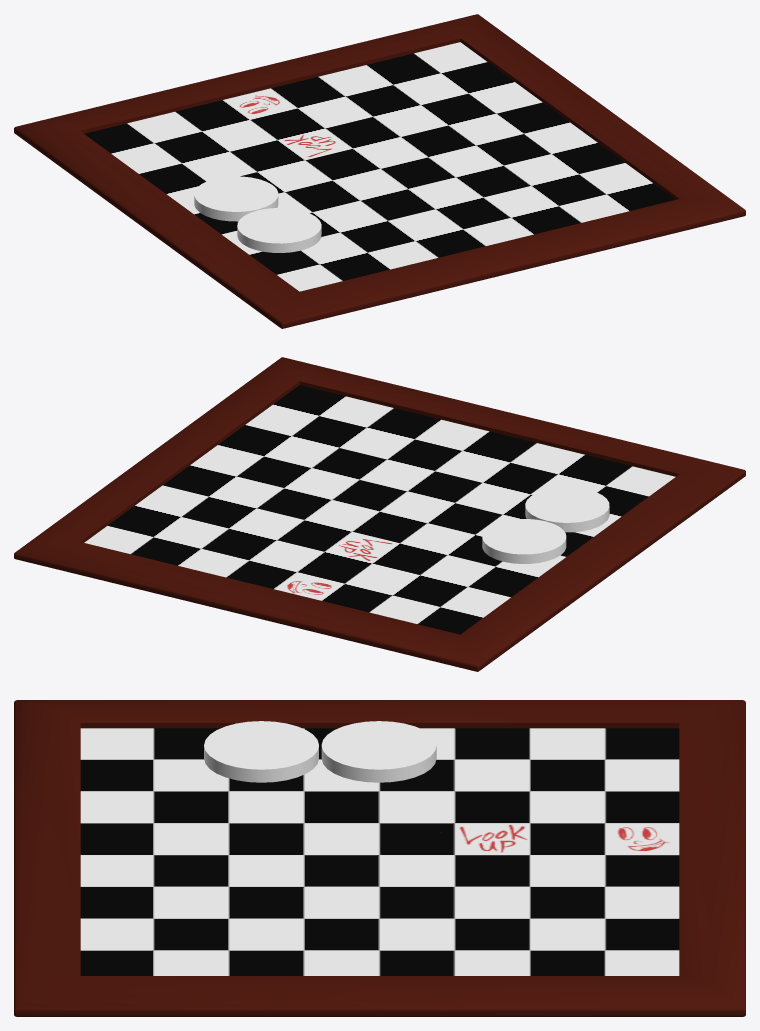
The model's file is Cafe_Chessboard.fbx.
3 views of the same model, one above another, from view 1: azimuth 30°, elevation 25°; view 2: azimuth 150°, elevation 25°; view 3: azimuth 270°, elevation 25° (orthographic). The views are drawn at different scales.
Visible parts, largest first — view 1: Chessboard, Hint_Piece002, Hint_Piece001; view 2: Chessboard, Hint_Piece001, Hint_Piece002; view 3: Chessboard, Hint_Piece001, Hint_Piece002.
Part boxes in pixels (x1,y1,x2,y2): Chessboard: (14, 14, 745, 328); Hint_Piece002: (237, 208, 321, 252); Hint_Piece001: (194, 176, 278, 221); Chessboard: (14, 357, 745, 671); Hint_Piece001: (482, 519, 566, 563); Hint_Piece002: (525, 487, 609, 532); Chessboard: (14, 700, 745, 1016); Hint_Piece001: (321, 721, 436, 782); Hint_Piece002: (204, 721, 318, 782).
Bounding box in the file's own units: 25.43 × 0.838 × 25.43.
3 materials, 1 textured.
